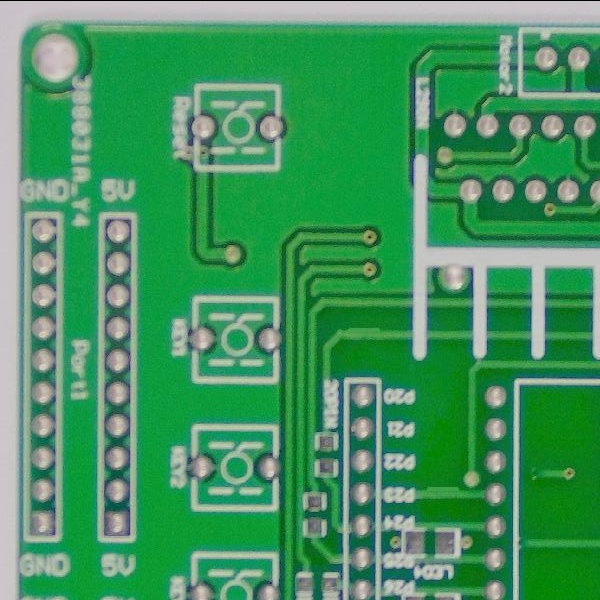spur: (335, 315, 386, 341), (420, 473, 461, 499)
